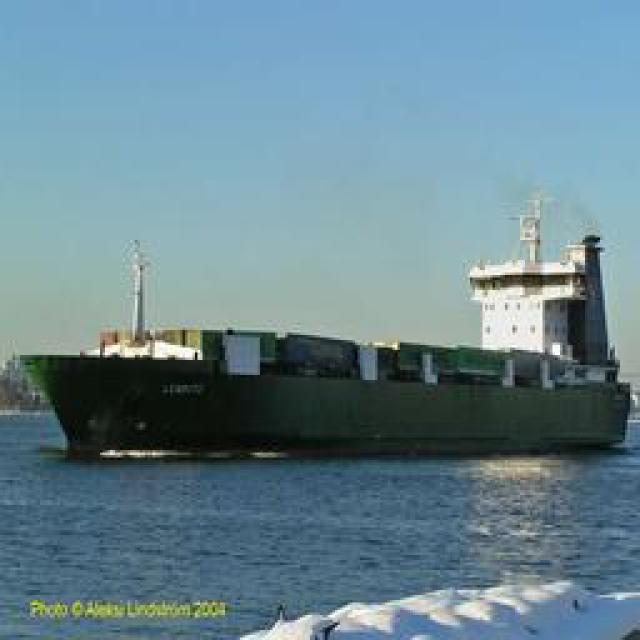Ship: (30, 207, 638, 465)
